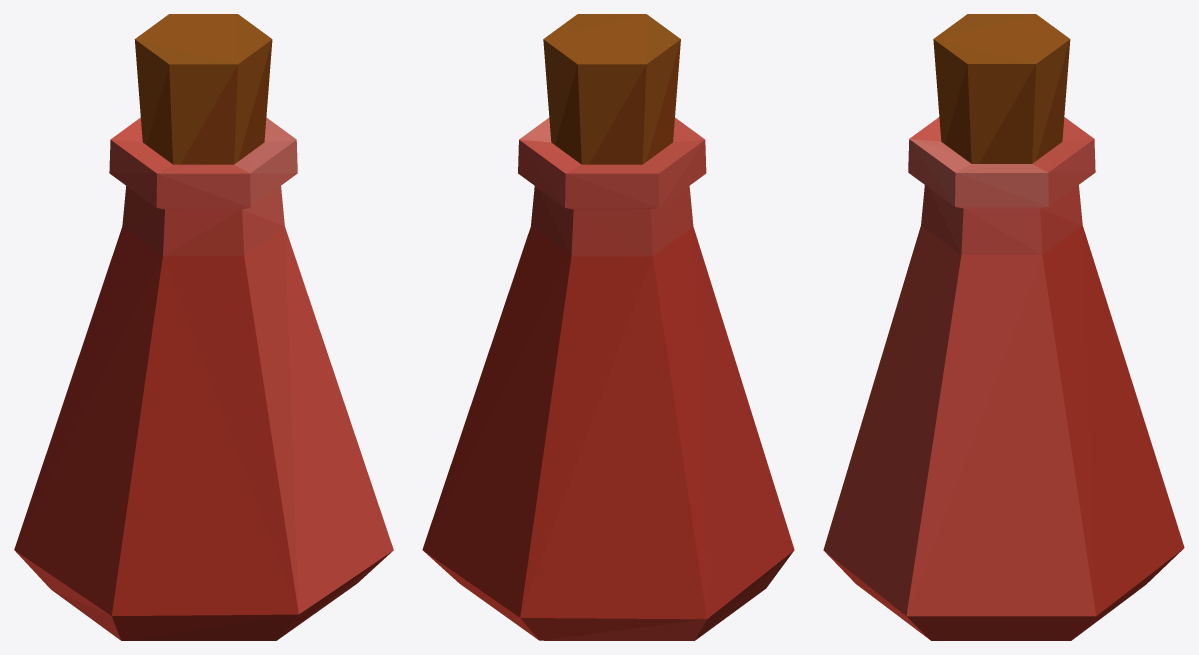
File: prop_bottle_potion_health_1.fbx
3 renders of one model, left to right at view 1: azimuth 30°, elevation 25°; view 2: azimuth 150°, elevation 25°; view 3: azimuth 270°, elevation 25°, orthographic.
Parts seen in each view (by area): view 1: prop_bottle_potion_health_1; view 2: prop_bottle_potion_health_1; view 3: prop_bottle_potion_health_1.
Part boxes in pixels (x1=…): prop_bottle_potion_health_1: x1=14, y1=14, x2=393, y2=640; prop_bottle_potion_health_1: x1=422, y1=14, x2=794, y2=640; prop_bottle_potion_health_1: x1=823, y1=14, x2=1184, y2=640.
Size of the model in its own units: 0.3602 by 0.6635 by 0.3981.
